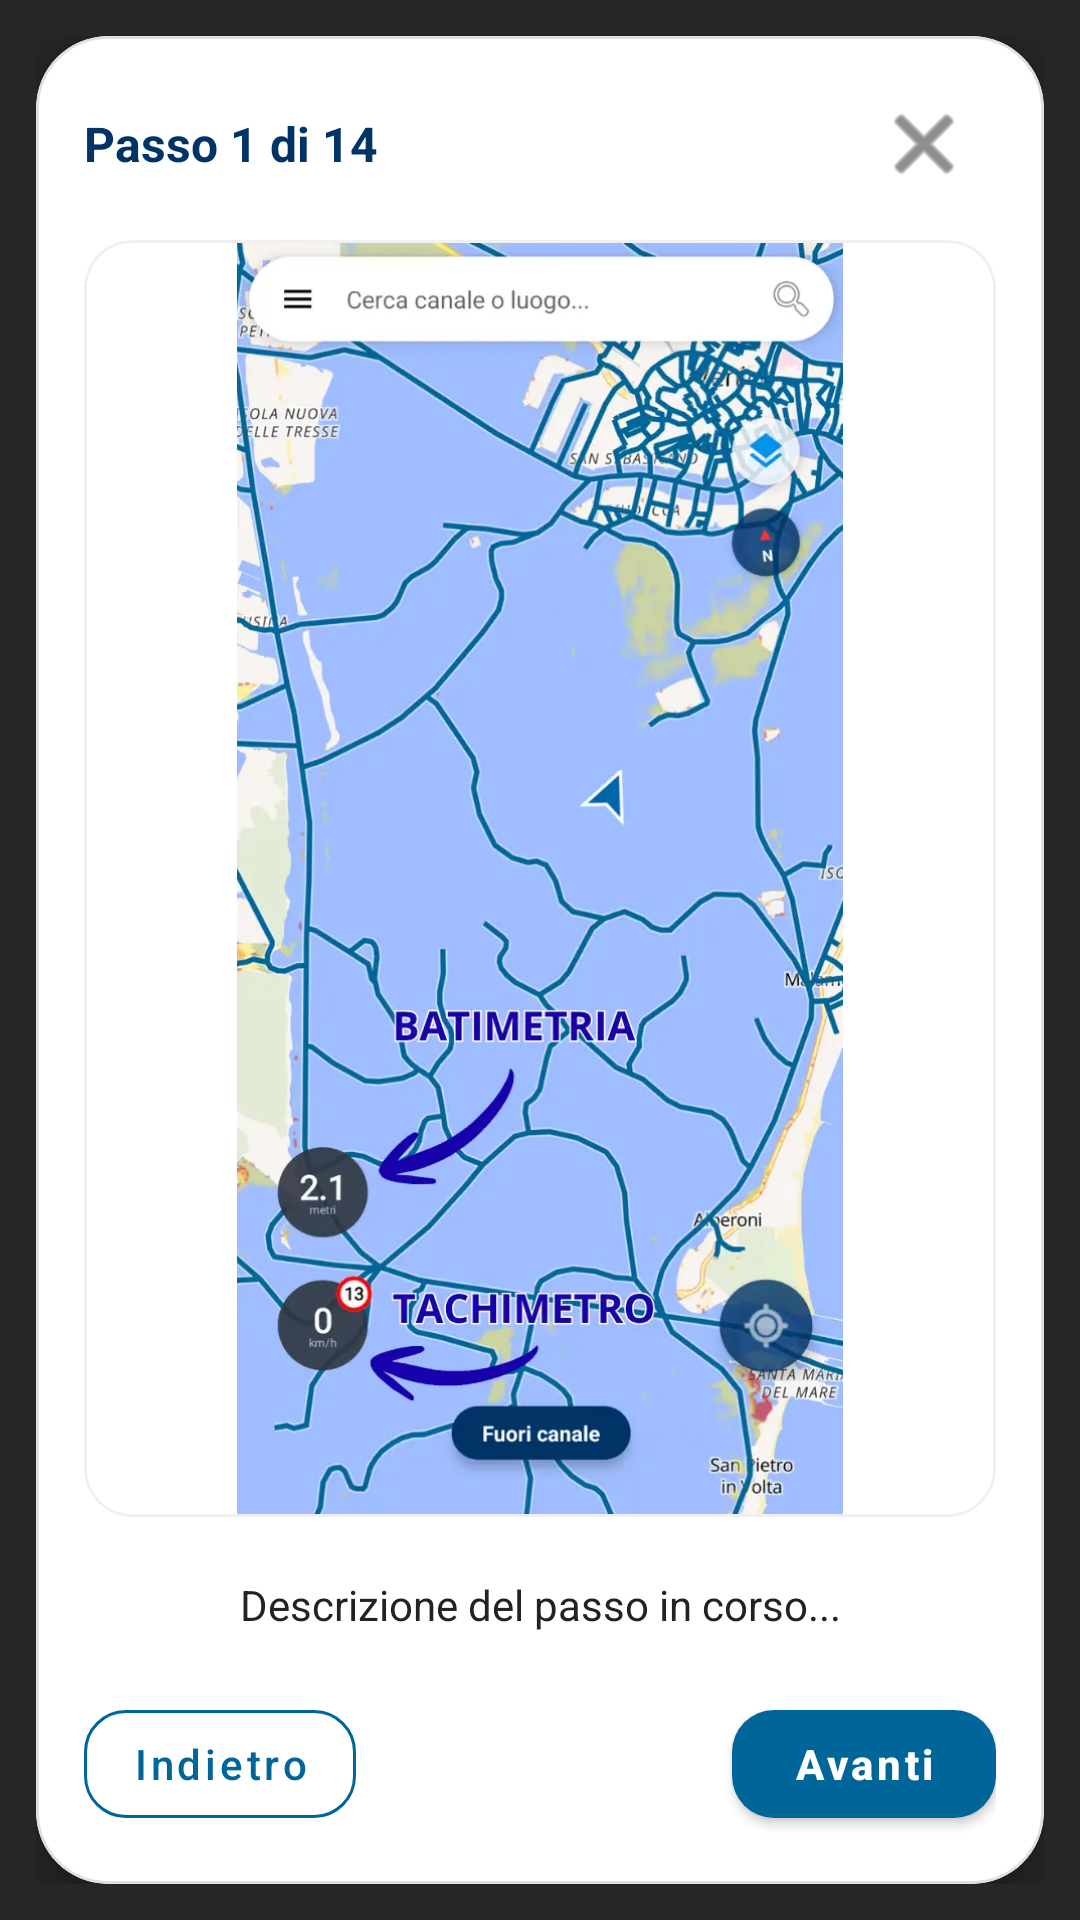

Icons on this 1080*1920 Android screen, each with the point to tap as (x=x, y=y):
Chiudi Tutorial: (x=924, y=144)
